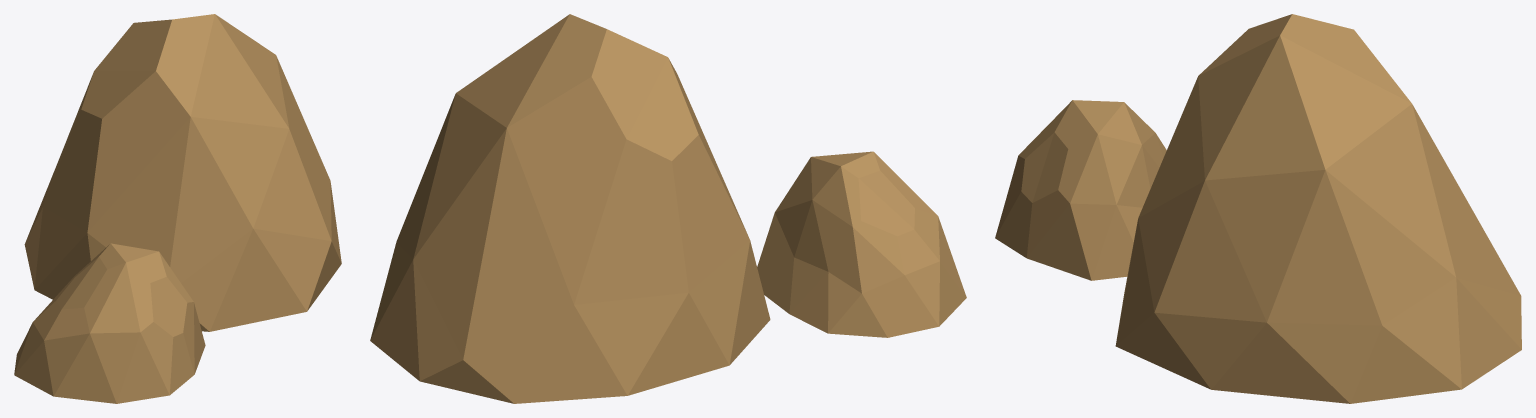
Rendered from PrairieStone(2).fbx.
3 renders of one model, left to right at view 1: azimuth 30°, elevation 25°; view 2: azimuth 150°, elevation 25°; view 3: azimuth 270°, elevation 25°, orthographic. The views are drawn at different scales.
Visible parts, largest first — view 1: PrairieStone(2); view 2: PrairieStone(2); view 3: PrairieStone(2).
Boxes of the visible parts, <box> form: PrairieStone(2): <box>14,14,341,403</box>; PrairieStone(2): <box>370,14,966,403</box>; PrairieStone(2): <box>995,14,1521,403</box>.
Size of the model in its own units: 2.07 by 1.31 by 2.08.
